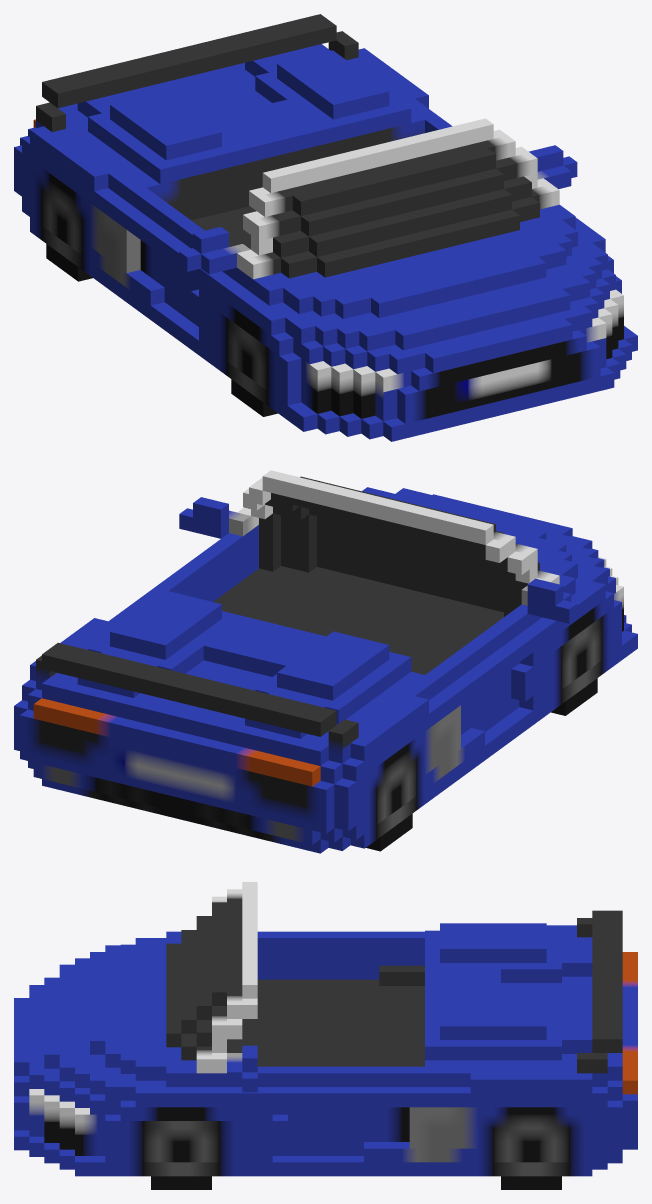
Rendered from audi.dae.
3 renders of one model, top to bottom at view 1: azimuth 30°, elevation 25°; view 2: azimuth 150°, elevation 25°; view 3: azimuth 270°, elevation 25°, orthographic. The views are drawn at different scales.
Parts seen in each view (by area): view 1: audi; view 2: audi; view 3: audi.
Part boxes in pixels (x1,y1,x2,y2): audi: (14, 14, 637, 441); audi: (14, 470, 637, 853); audi: (14, 882, 637, 1189).
Bounding box in the file's own units: 28 × 13 × 41.
Materials: 1 (1 with a texture image).
